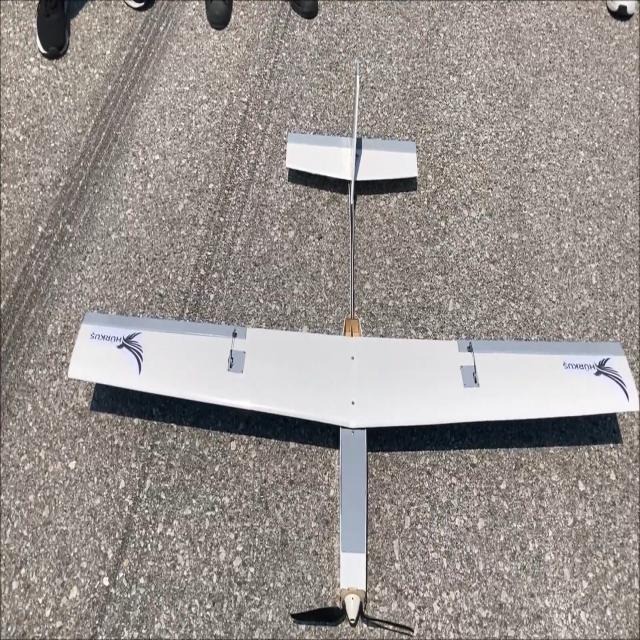iha: (33, 124, 562, 610)
